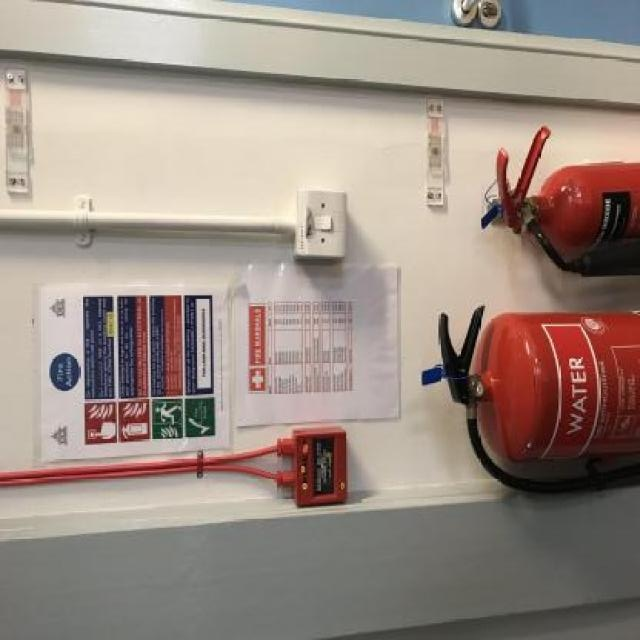fire extinguisher: (420, 308, 640, 500), (495, 126, 640, 274)
